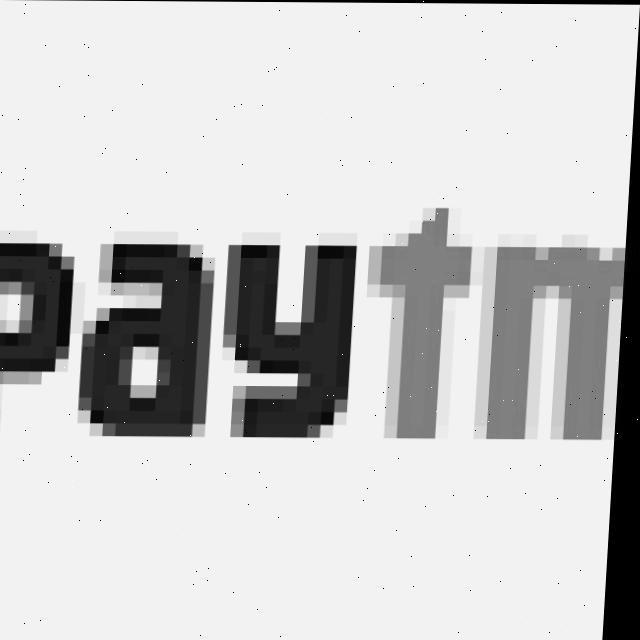fully_visible: (0, 219, 630, 481)
